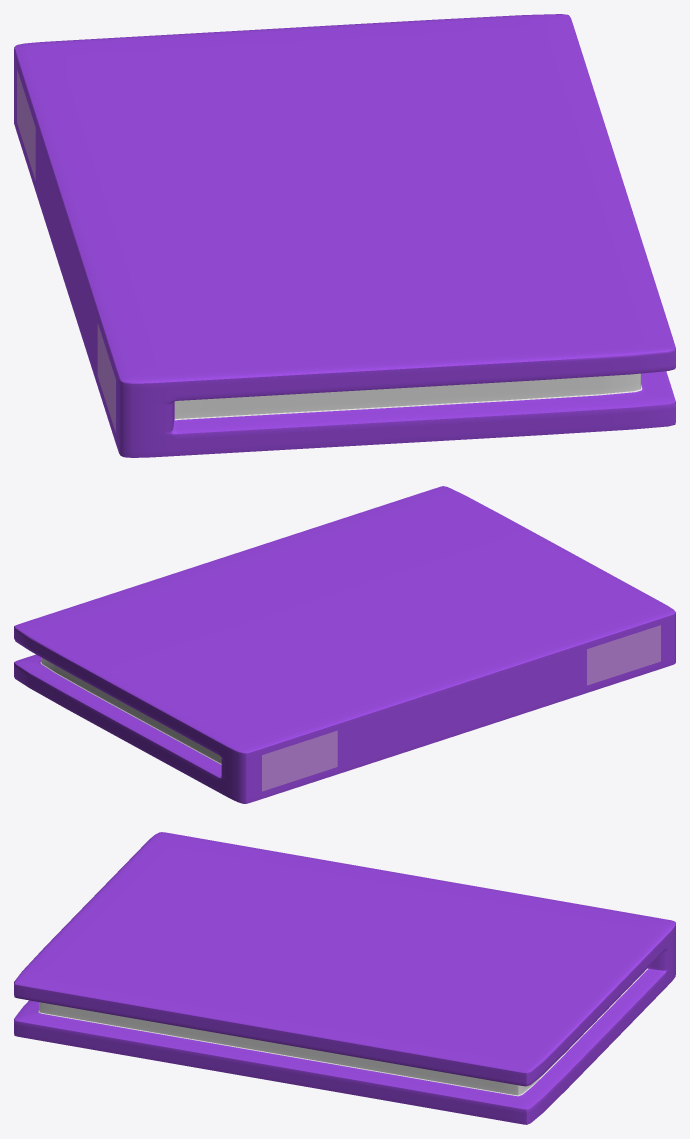
Rendered from Book Purple.fbx.
The picture shows the model from 3 angles, top to bottom: view 1: azimuth 30°, elevation 25°; view 2: azimuth 150°, elevation 25°; view 3: azimuth 270°, elevation 25°; orthographic projection. The views are drawn at different scales.
Visible parts, largest first — view 1: Cube.002; view 2: Cube.002; view 3: Cube.002.
Part boxes in pixels (x1,y1,x2,y2): Cube.002: [14, 14, 675, 457]; Cube.002: [14, 486, 675, 803]; Cube.002: [14, 832, 675, 1124].
Size of the model in its own units: 58.04 by 6.03 by 67.4.
